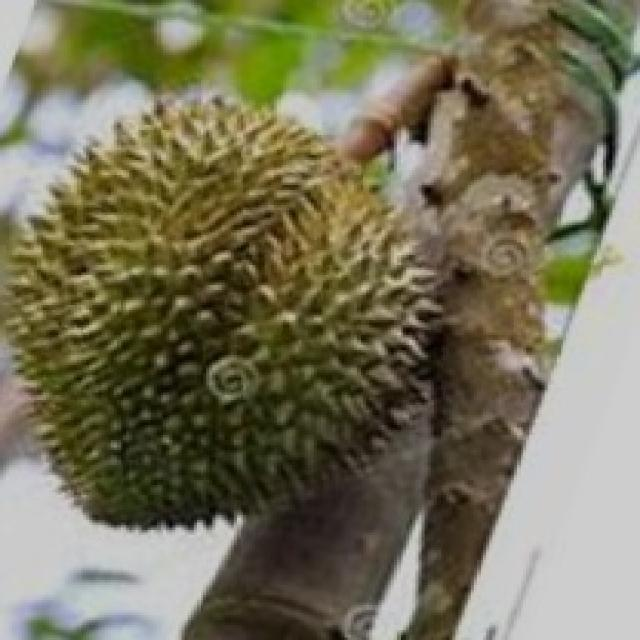fruit: (0, 202, 351, 578)
